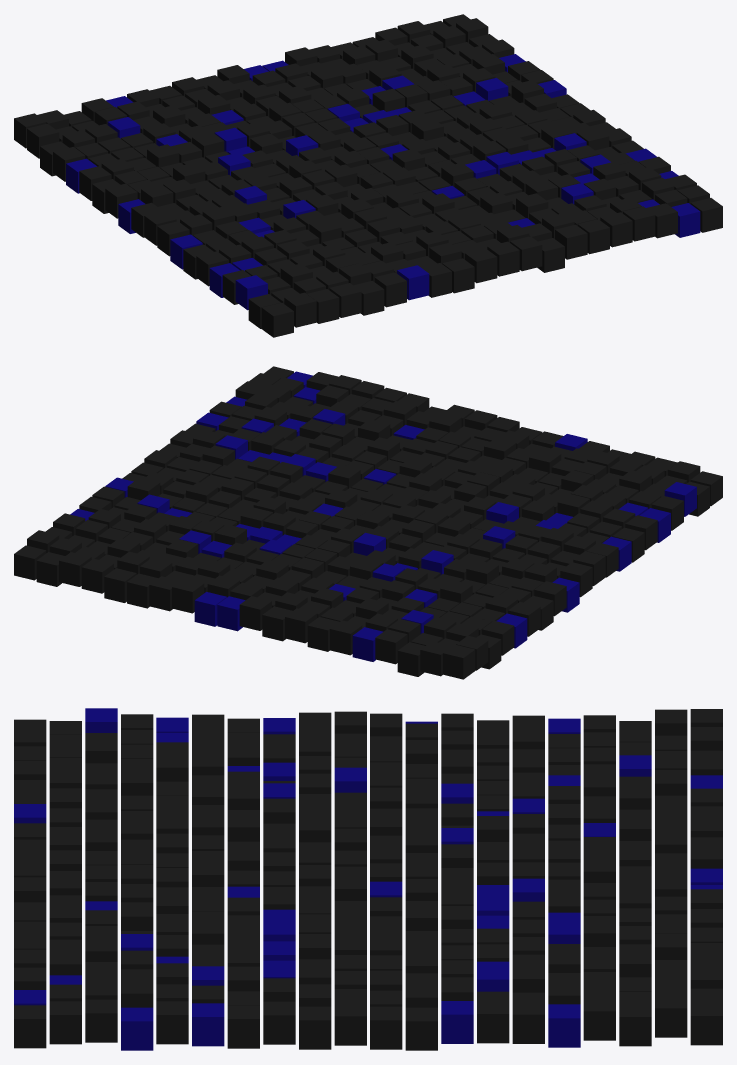
File: Field_of_Cubes.fbx
3 views of the same model, one above another, from view 1: azimuth 30°, elevation 25°; view 2: azimuth 150°, elevation 25°; view 3: azimuth 270°, elevation 25° (orthographic). The views are drawn at different scales.
Visible parts, largest first — view 1: Cube; view 2: Cube; view 3: Cube.
Boxes of the visible parts, x1,y1,x2,y2 form: Cube: (14,14,722,337); Cube: (14,366,722,679); Cube: (14,708,722,1050).
Size of the model in its own units: 2074 by 142 by 2074.
